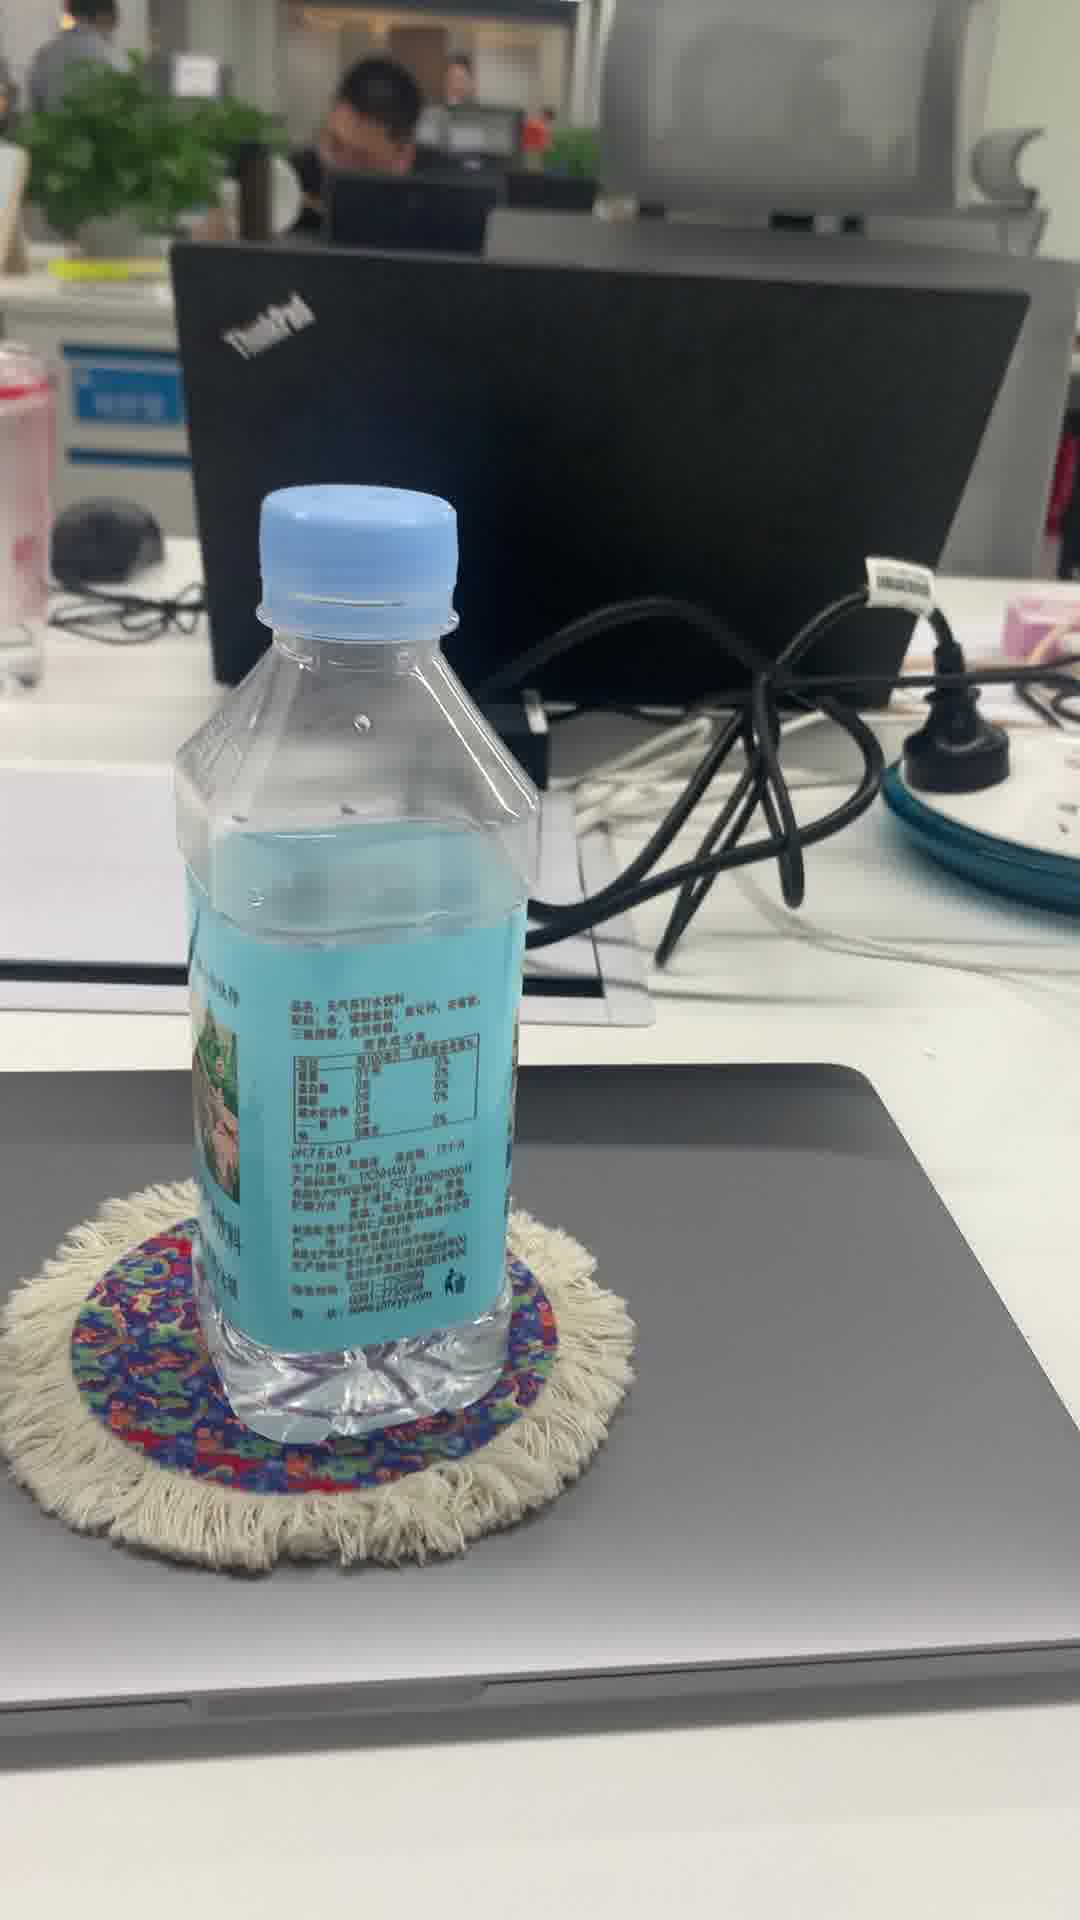水瓶: (161, 477, 549, 1444)
